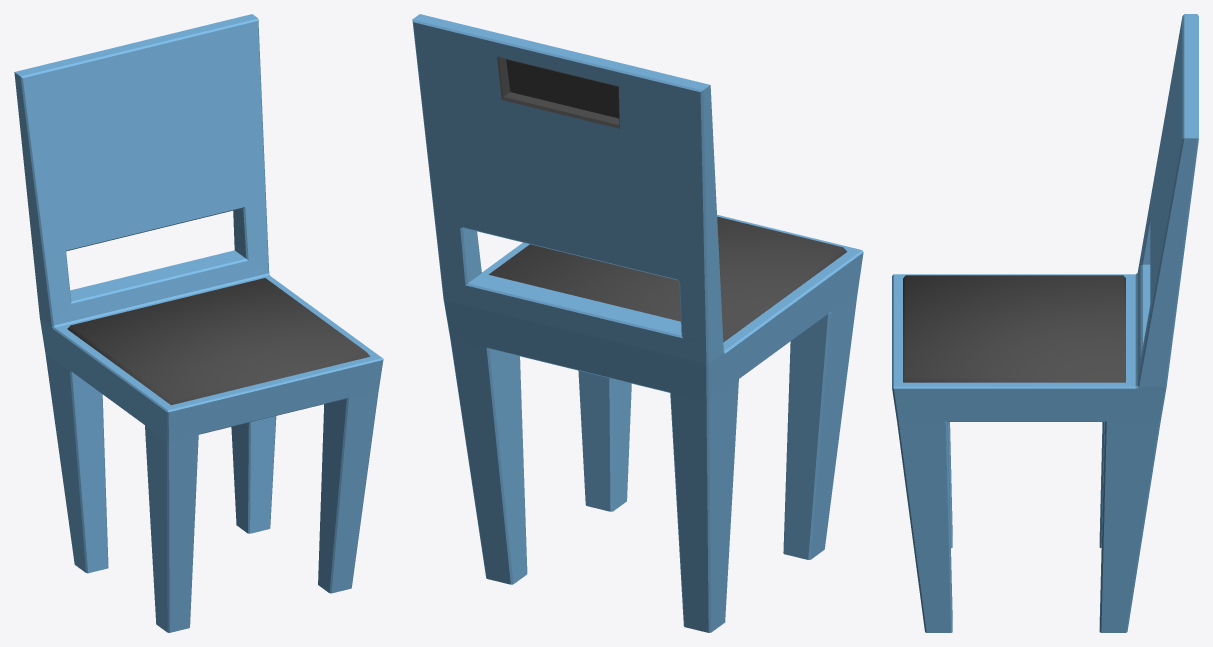
File: Chair_Sk_00.FBX
The picture shows the model from 3 angles, left to right: view 1: azimuth 30°, elevation 25°; view 2: azimuth 150°, elevation 25°; view 3: azimuth 270°, elevation 25°; orthographic projection. The views are drawn at different scales.
Visible parts, largest first — view 1: Chair_Sk_00; view 2: Chair_Sk_00; view 3: Chair_Sk_00.
Part boxes in pixels (bbox=[...]): Chair_Sk_00: bbox=[14, 14, 383, 632]; Chair_Sk_00: bbox=[412, 14, 863, 632]; Chair_Sk_00: bbox=[892, 14, 1198, 632].
Size of the model in its own units: 0.5255 by 1 by 0.548.
